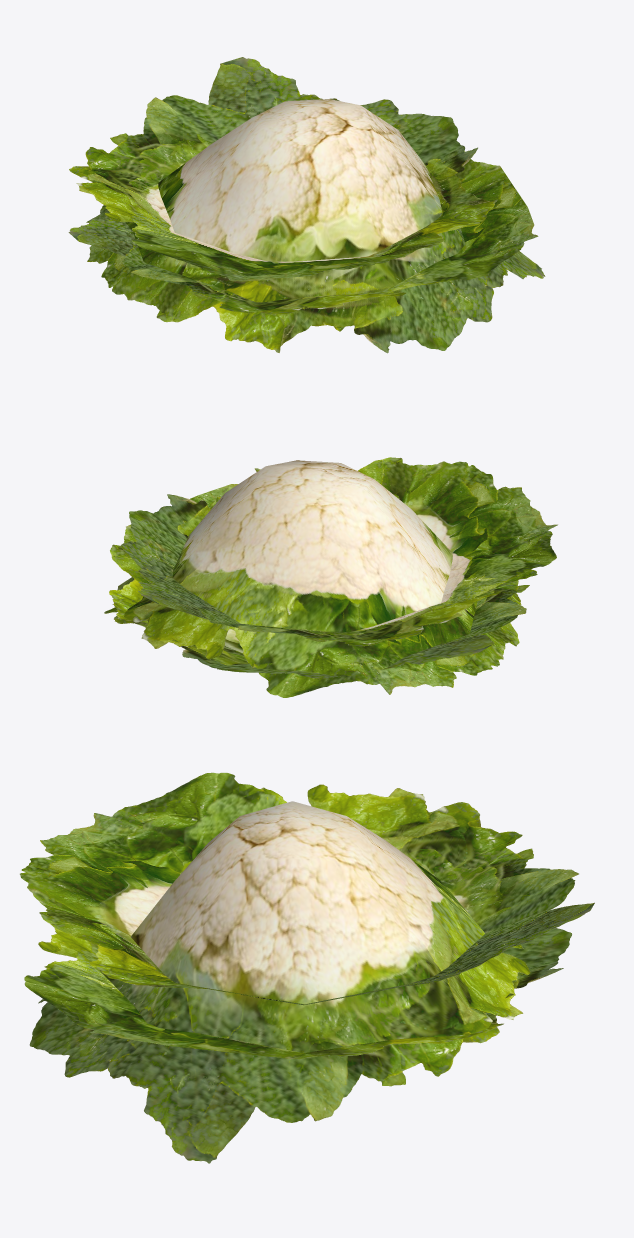
File: Product_califlower.FBX
3 views of the same model, one above another, from view 1: azimuth 30°, elevation 25°; view 2: azimuth 150°, elevation 25°; view 3: azimuth 270°, elevation 25° (orthographic). The views are drawn at different scales.
Parts seen in each view (by area): view 1: product_califlower_LOD00; view 2: product_califlower_LOD00; view 3: product_califlower_LOD00.
Part boxes in pixels (left/top/right/bottom): product_califlower_LOD00: left=68, top=57, right=545, bottom=353; product_califlower_LOD00: left=104, top=457, right=557, bottom=697; product_califlower_LOD00: left=19, top=772, right=594, bottom=1163.
Size of what is drawn, in the model's own units: 0.3693 by 0.2002 by 0.3859.
